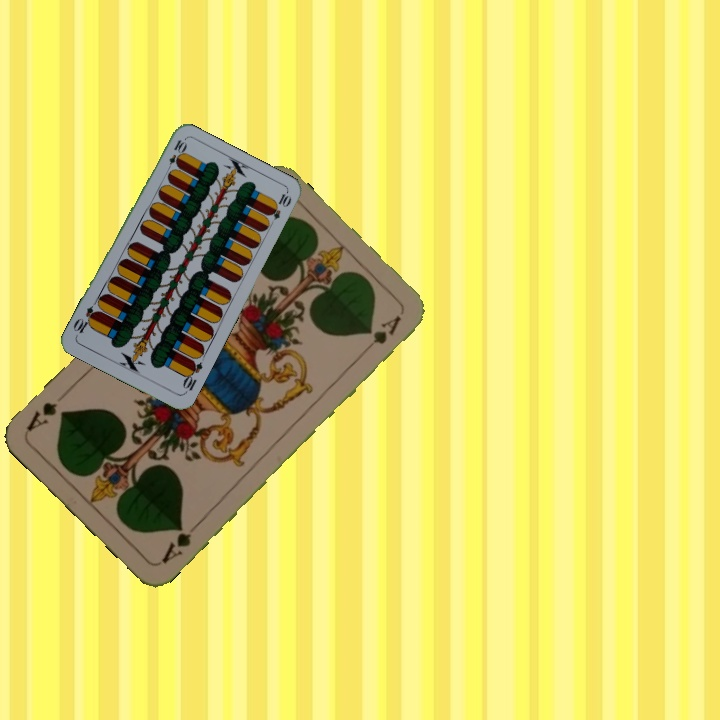E10: (178, 356, 205, 396), (163, 136, 188, 175)
GA: (157, 519, 202, 566)
